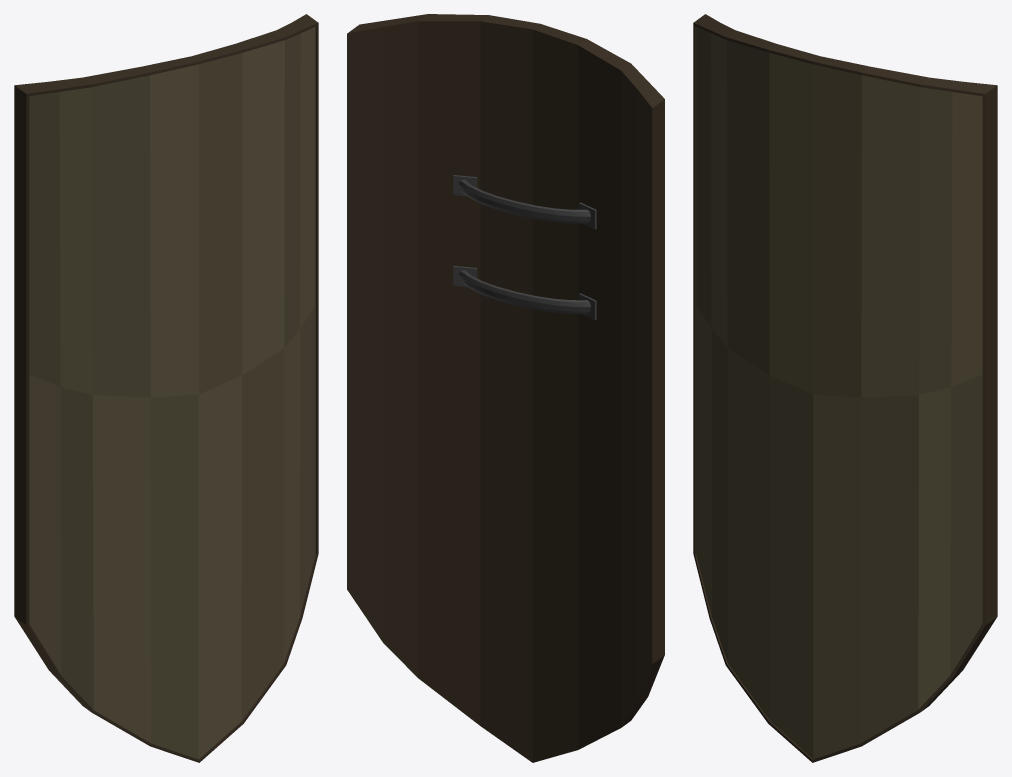
The model's file is W_Shield_2.fbx.
3 views of the same model, side by side, from view 1: azimuth 30°, elevation 25°; view 2: azimuth 150°, elevation 25°; view 3: azimuth 330°, elevation 25° (orthographic). The views are drawn at different scales.
Visible parts, largest first — view 1: Shield; view 2: Shield; view 3: Shield.
Boxes of the visible parts, x1=… form: Shield: x1=14, y1=14, x2=318, y2=762; Shield: x1=347, y1=14, x2=664, y2=762; Shield: x1=693, y1=14, x2=997, y2=762.
Bounding box in the file's own units: 1.13 × 2.6 × 0.262.
